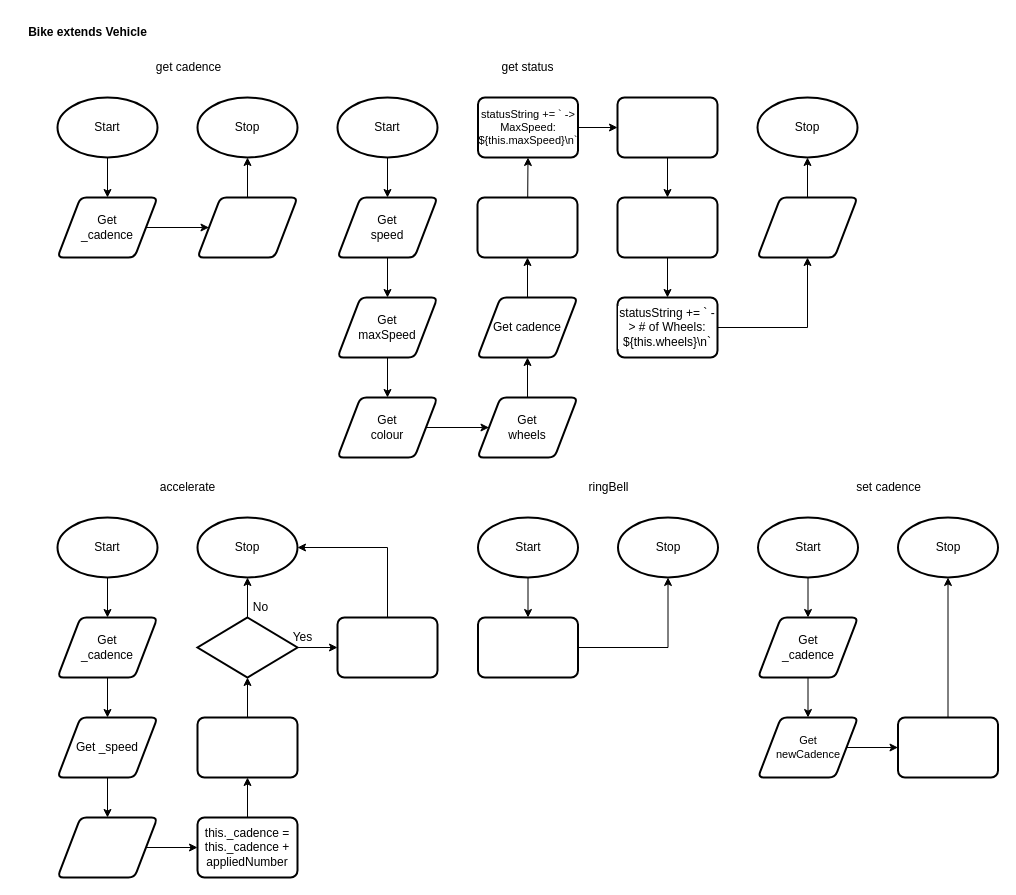
The diagram is 1016 pixels wide and 895 high, and some of its shapes have lost their labels. Here are the shapes that lost their labels. From the top down, the box of each, then its label:
(616, 96, 718, 158): statusString += ` -> Color: ${this.colour}`
(196, 196, 298, 258): return _cadence
(476, 196, 578, 258): statusString += ` -> Speed: ${this.speed}\n`
(616, 196, 718, 258): statusString += ` -> Cadence: ${this.cadence}`
(756, 196, 858, 258): return statusString
(196, 616, 298, 678): if (this._speed > this._maxSpeed)
(336, 616, 438, 678): this._speed = this._maxSpeed
(476, 616, 578, 678): console.log( "Ding ding!\n")
(196, 716, 298, 778): this._speed = appliedNumber + appliedNumber
(896, 716, 998, 778): this._cadence = newCadence
(56, 816, 158, 878): Get appliedNumber
